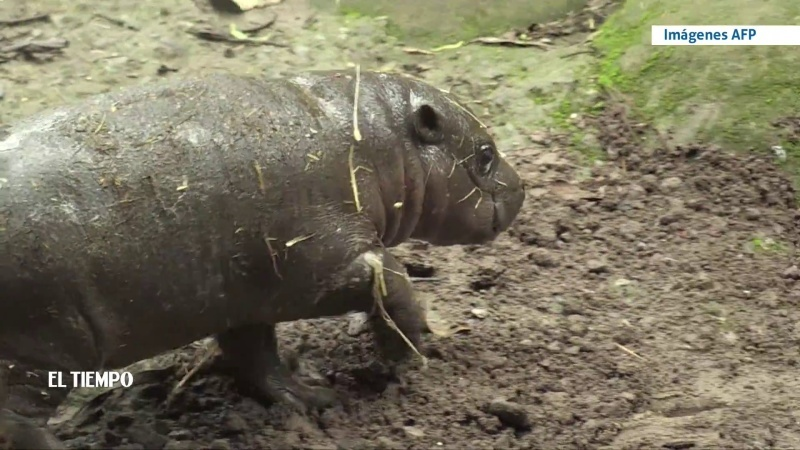hipopotamo: (1, 63, 534, 432)
